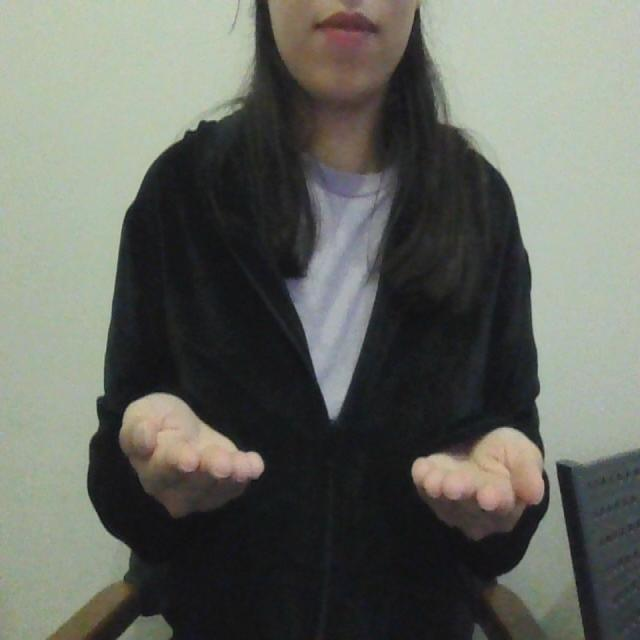Evet: (115, 386, 548, 551)
